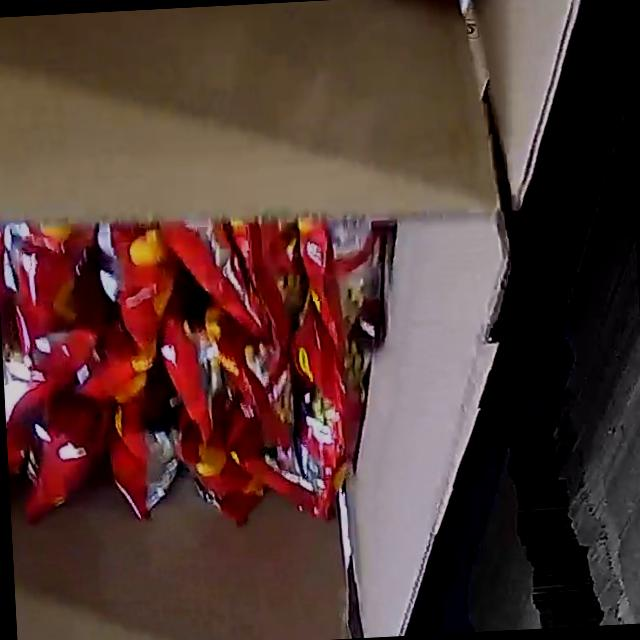masala: (0, 202, 396, 542)
